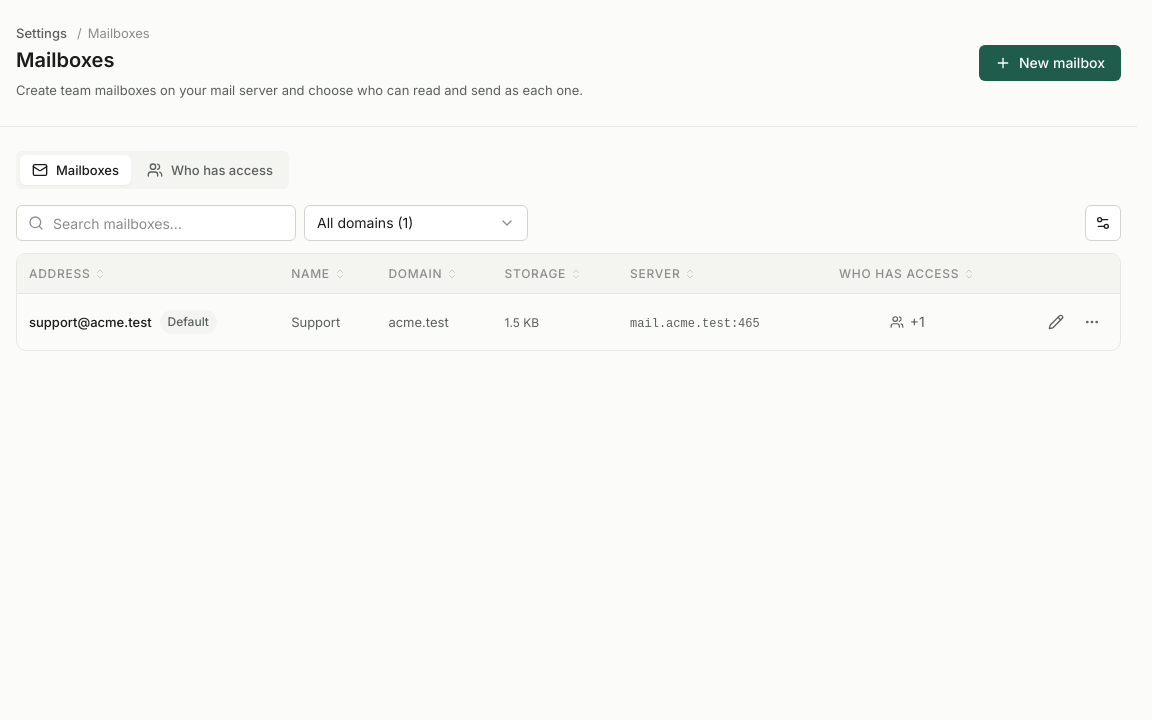
Mailboxes › tells an admin with no granted domains to ask the owner
This screenshot has width=1152, height=720.
What coordinates should you click on to do the following:
click the button "New mailbox"
I would click on:
 (1050, 63)
Its box is x1=979 y1=45 x2=1121 y2=81.
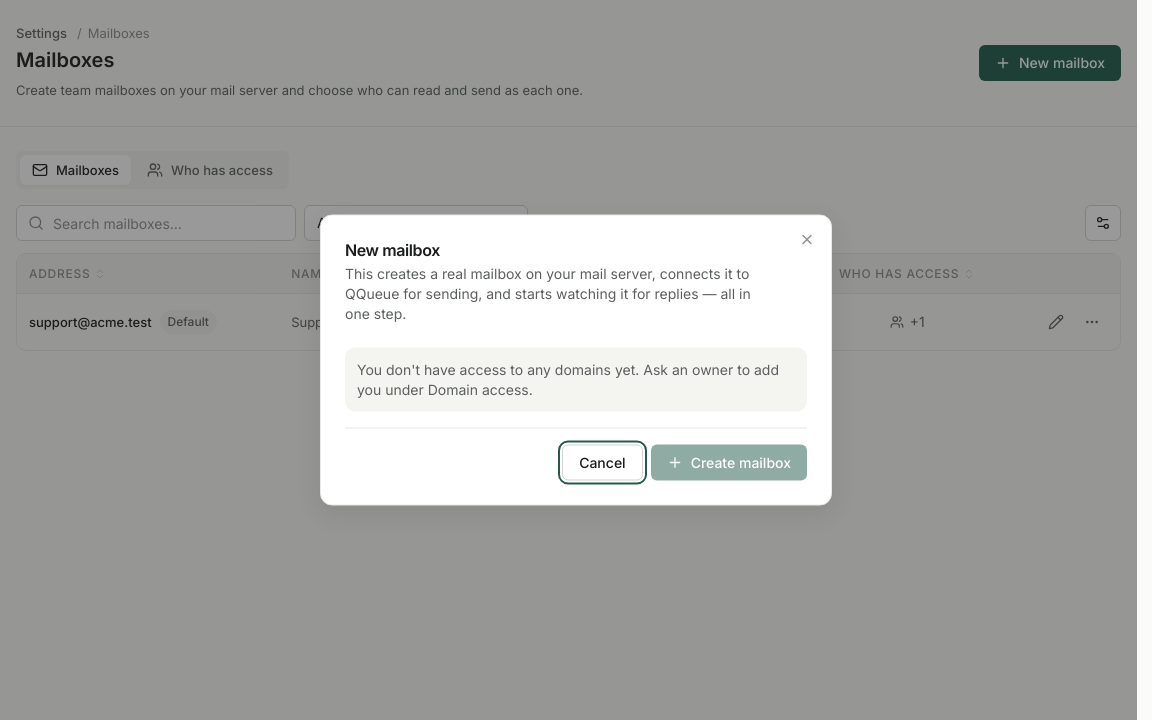
Expected: the text "don't have access to any domains" is shown, x1=357 y1=360 x2=779 y2=398
